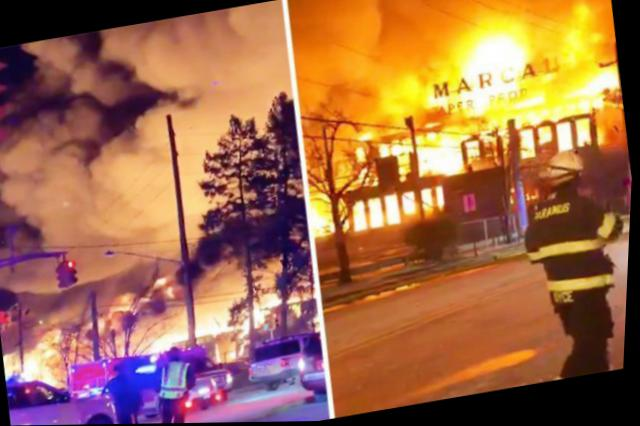fire: (443, 12, 555, 133), (535, 1, 622, 128), (413, 135, 471, 182)
smoke: (0, 15, 219, 255), (181, 0, 309, 164), (275, 0, 446, 98), (13, 218, 204, 304), (436, 0, 611, 24)
